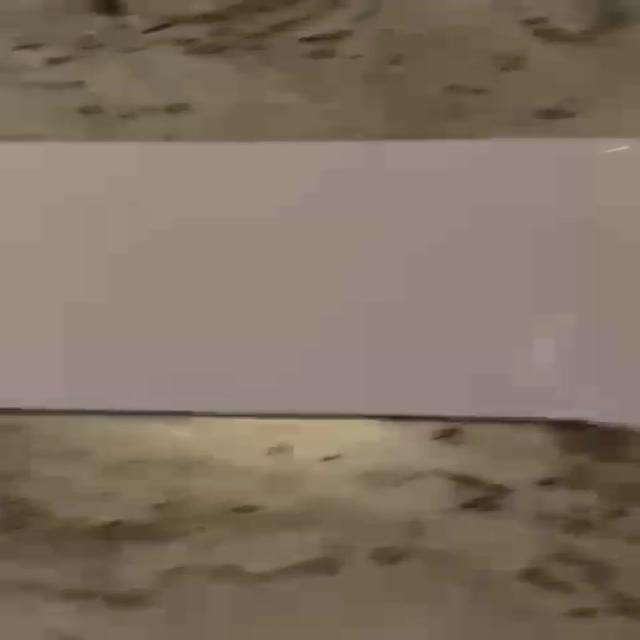road: (1, 139, 639, 423)
